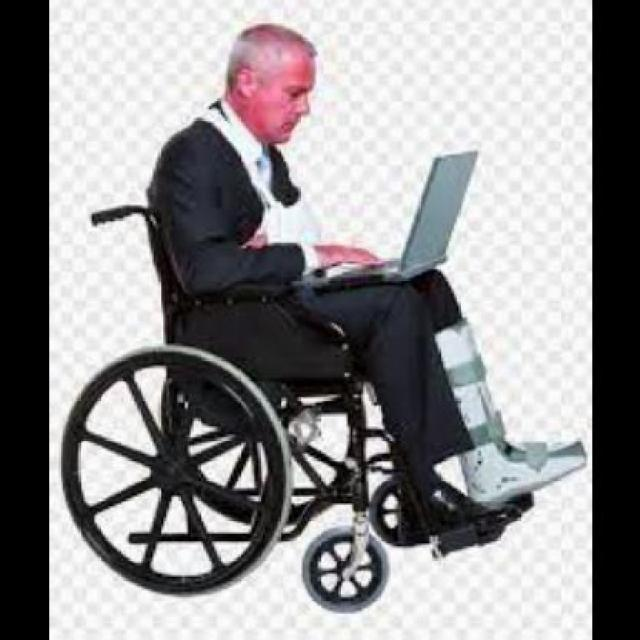wheelchairs: (66, 204, 537, 621)
